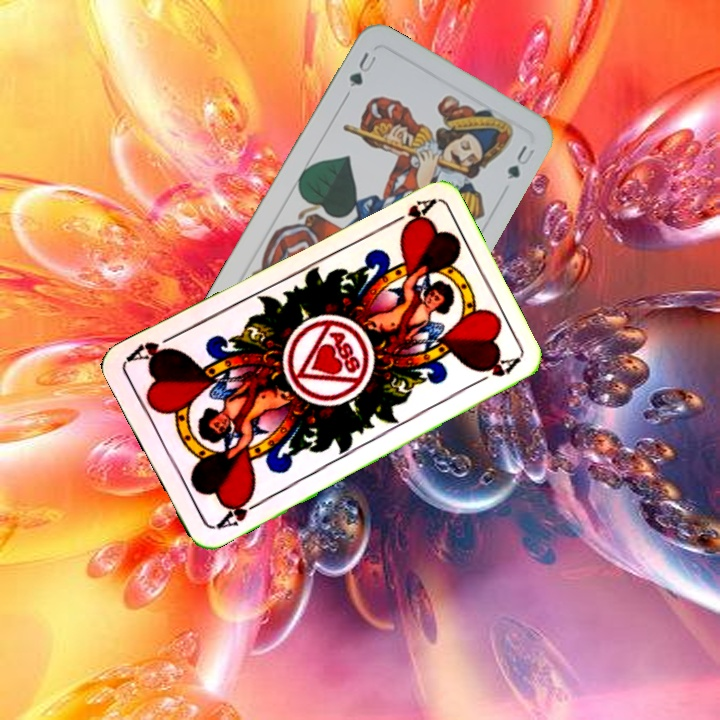GU: (341, 48, 379, 99)
HA: (210, 490, 265, 532), (381, 195, 437, 235)
